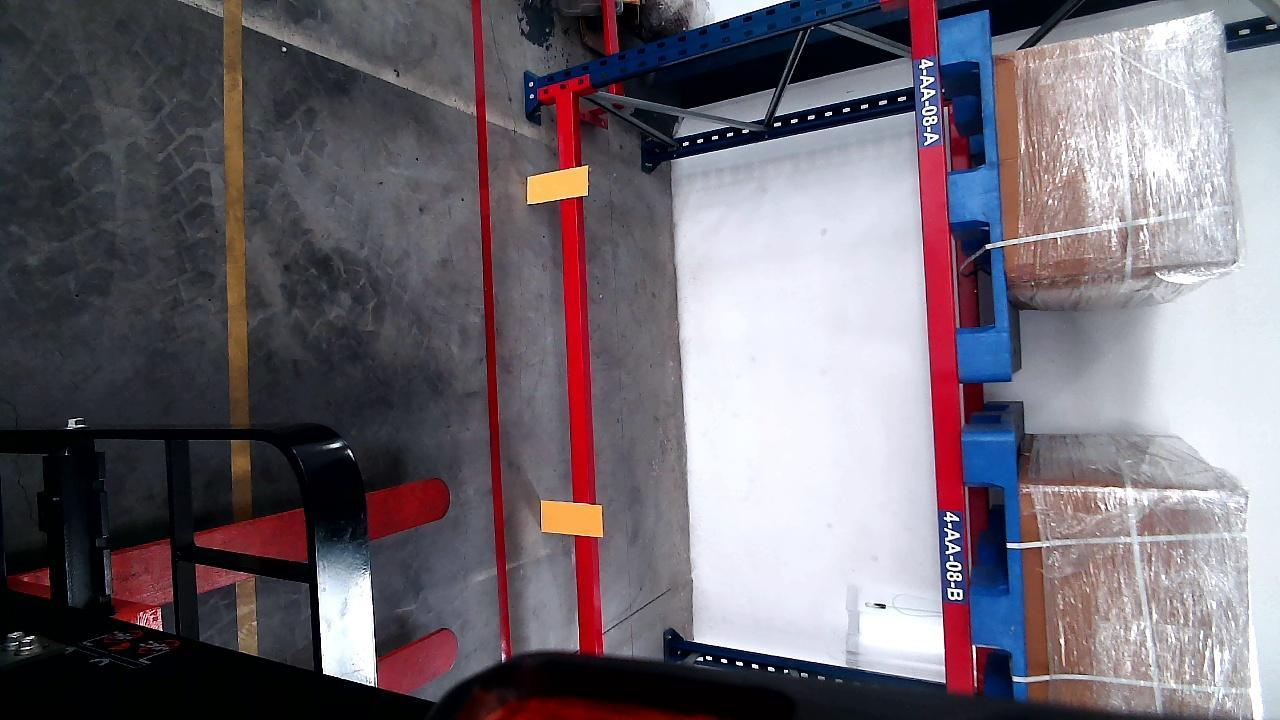red_line: (471, 1, 510, 659)
yellow_line: (223, 1, 255, 657)
